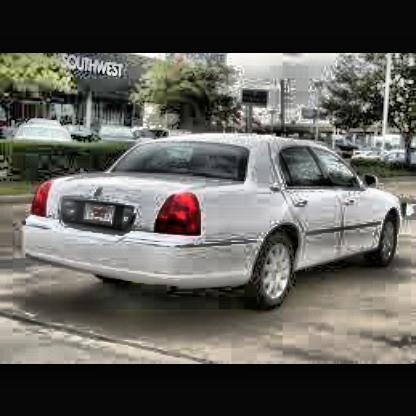Lincoln Town Car Sedan 2011: (28, 122, 402, 308)
